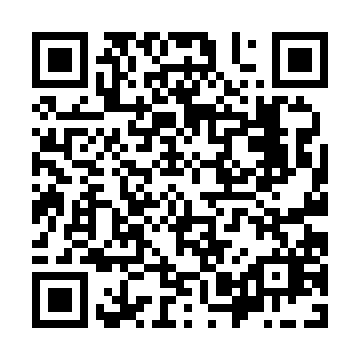QR_CODE: (26, 25, 334, 335)
